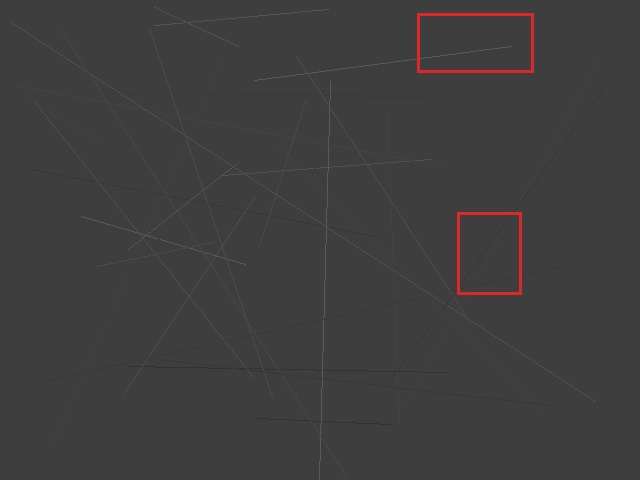D40: (417, 13, 533, 72), (457, 212, 521, 294)
